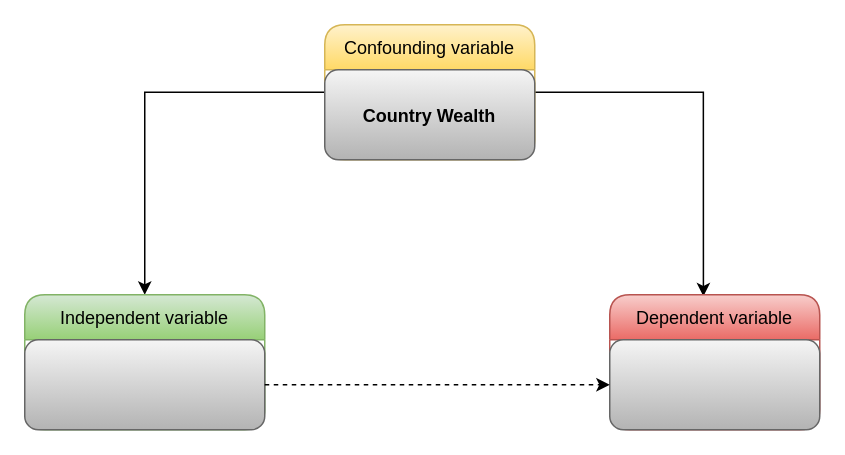
Some shapes in this 845 by 455 pixel diagram are drawn without their labels. Here are the shapes that lost their labels. From the top down, the centre of each, then its label:
At pixel 144 384: "Chocolate consumption".
At pixel 714 384: "Nobel laureate ratio".
